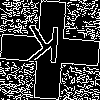K: (25, 25, 62, 73)
